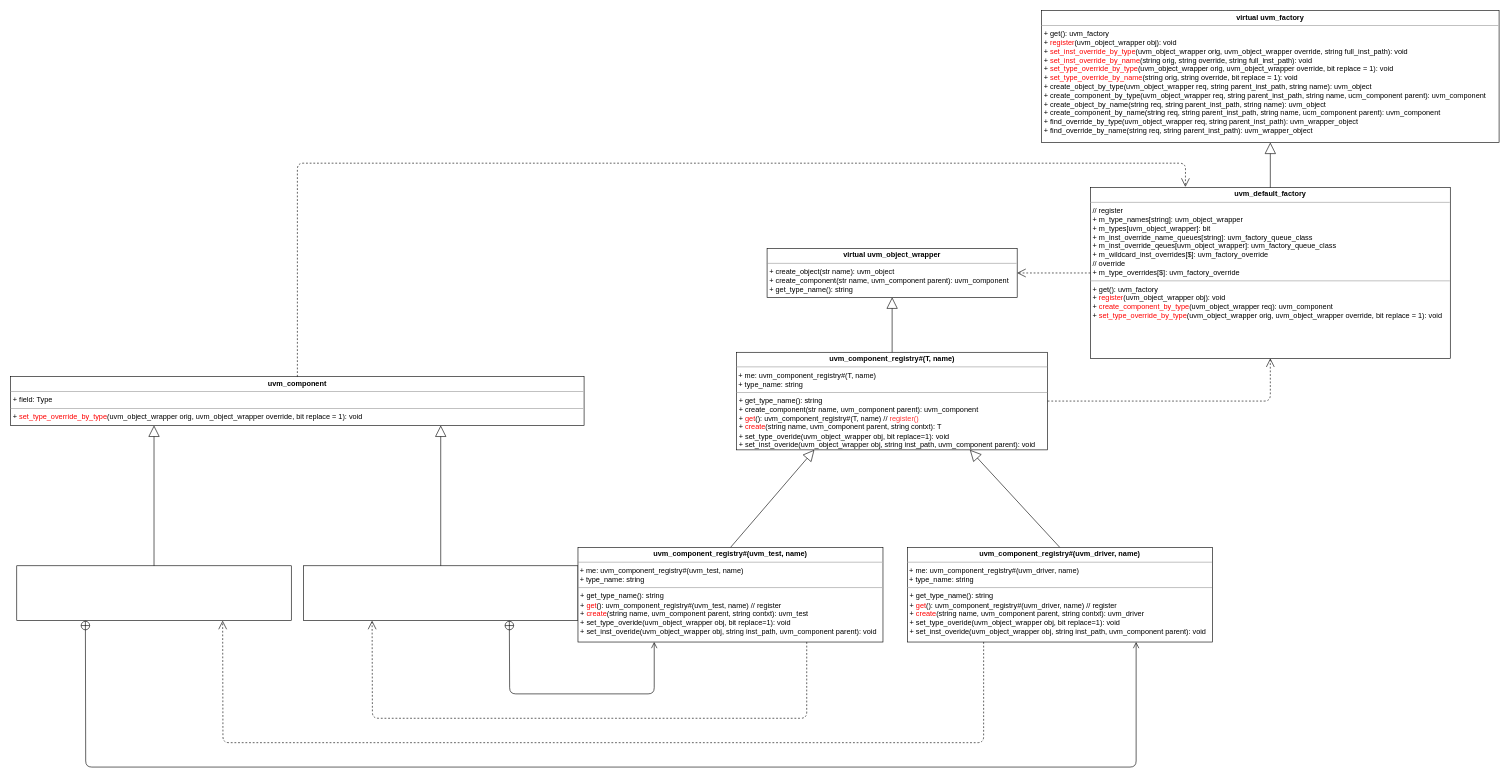
Image size: 1510x784. Some labels were removed from this diagram. The centre of each missing label's shape, as x and y in pixels:
"uvm_driver + type_id: uvm_component_registry#(uvm_driver, name) + method(): Type" goes at pixel 153 593.
"uvm_test + type_id: uvm_component_registry#(uvm_test, name) + method(): Type" goes at pixel 440 593.
